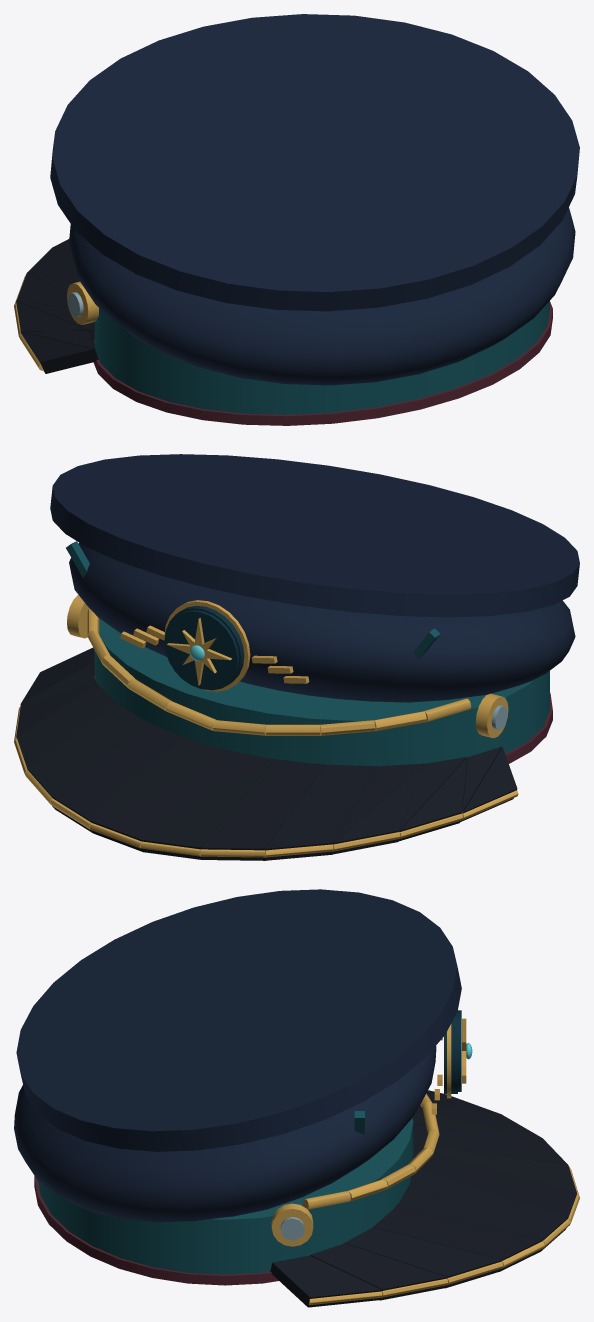
File: northwind_captain.fbx
The picture shows the model from 3 angles, top to bottom: view 1: azimuth 30°, elevation 25°; view 2: azimuth 150°, elevation 25°; view 3: azimuth 270°, elevation 25°; orthographic projection. The views are drawn at different scales.
Parts seen in each view (by area): view 1: Northwind_Captain; view 2: Northwind_Captain; view 3: Northwind_Captain.
Boxes of the visible parts, x1,y1,x2,y2 form: Northwind_Captain: (14, 14, 579, 425); Northwind_Captain: (14, 454, 579, 860); Northwind_Captain: (14, 889, 579, 1307).
Size of the model in its own units: 232 by 113 by 244.
Materials: 1 (1 with a texture image).
